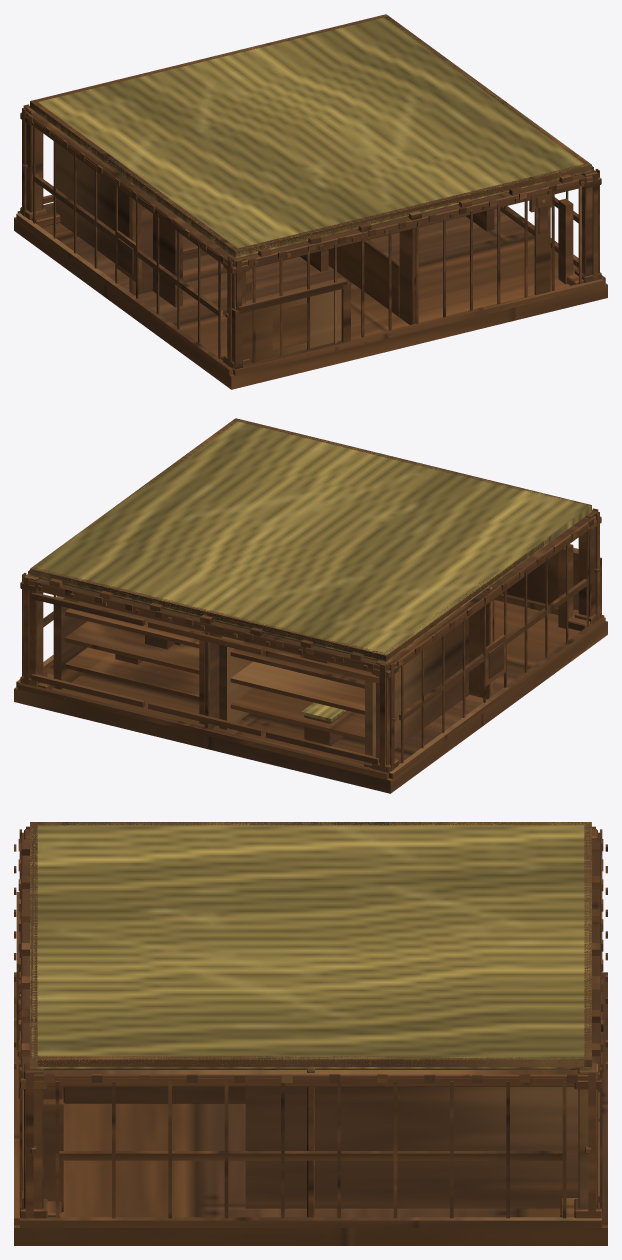
3 renders of one model, top to bottom at view 1: azimuth 30°, elevation 25°; view 2: azimuth 150°, elevation 25°; view 3: azimuth 270°, elevation 25°, orthographic. The views are drawn at different scales.
Parts seen in each view (by area): view 1: SM_HDBF_BoxFarm_Basic_LOD0; view 2: SM_HDBF_BoxFarm_Basic_LOD0; view 3: SM_HDBF_BoxFarm_Basic_LOD0.
Boxes of the visible parts, <box> form: SM_HDBF_BoxFarm_Basic_LOD0: <box>14,14,607,389</box>; SM_HDBF_BoxFarm_Basic_LOD0: <box>14,418,607,793</box>; SM_HDBF_BoxFarm_Basic_LOD0: <box>14,822,607,1245</box>.
Size of the model in its own units: 3 by 1 by 3.
2 materials, 2 textured.
